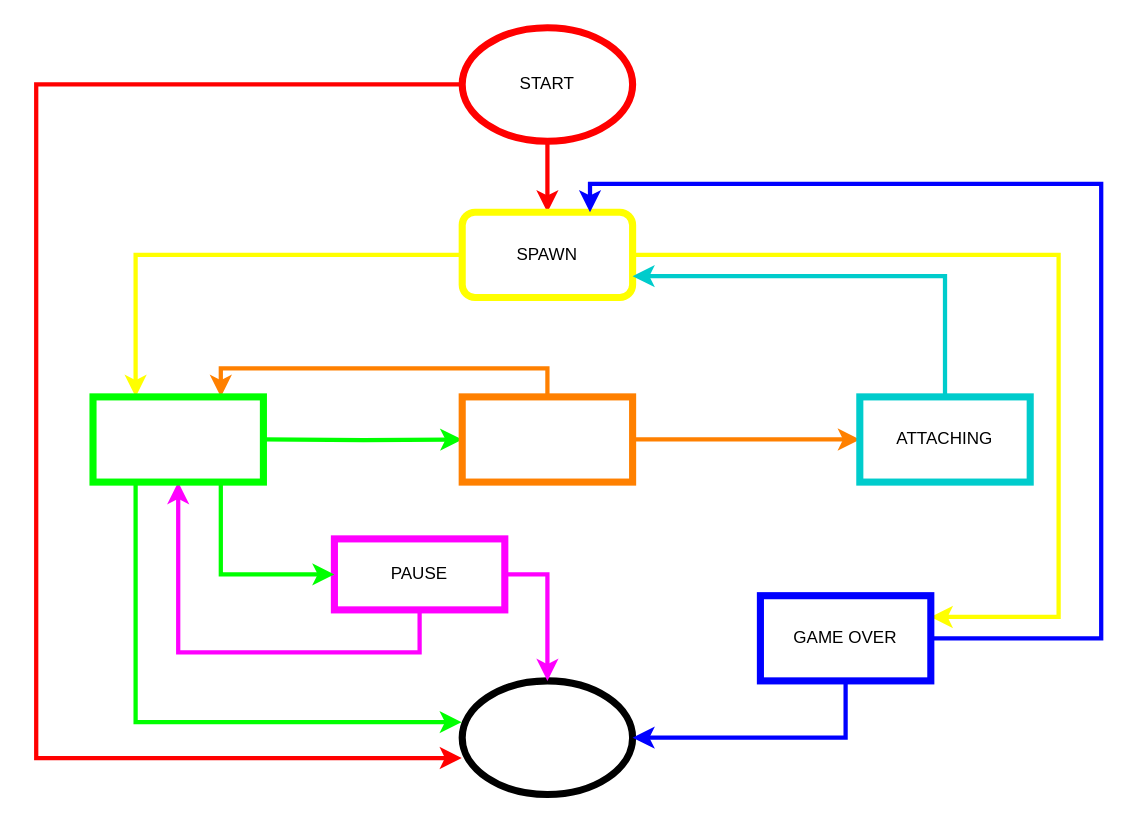
Some shapes in this 1139 by 822 pixel diagram are drawn without their labels. The shapes that lost their labels are listed below. From the top down, each one's box as (x1, y1, x2, y2) in pixels, then its label:
(89, 393, 266, 485): MOVING
(458, 393, 635, 485): SHIFTING
(458, 677, 635, 797): EXIT
